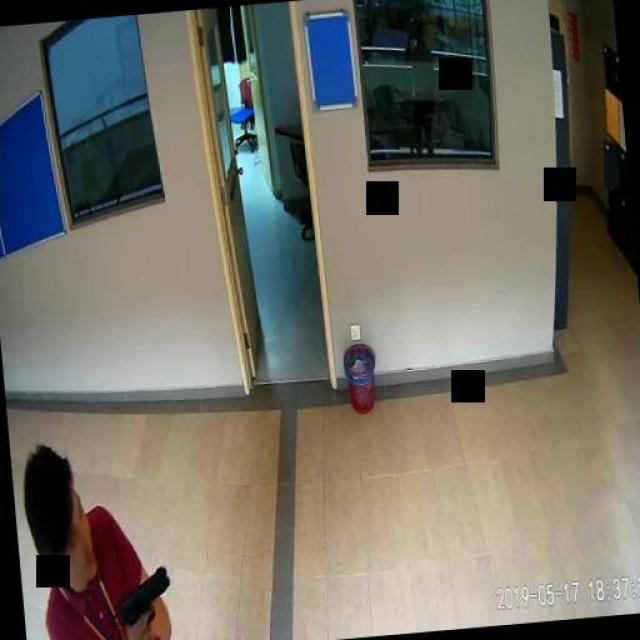gun: (112, 562, 172, 640)
